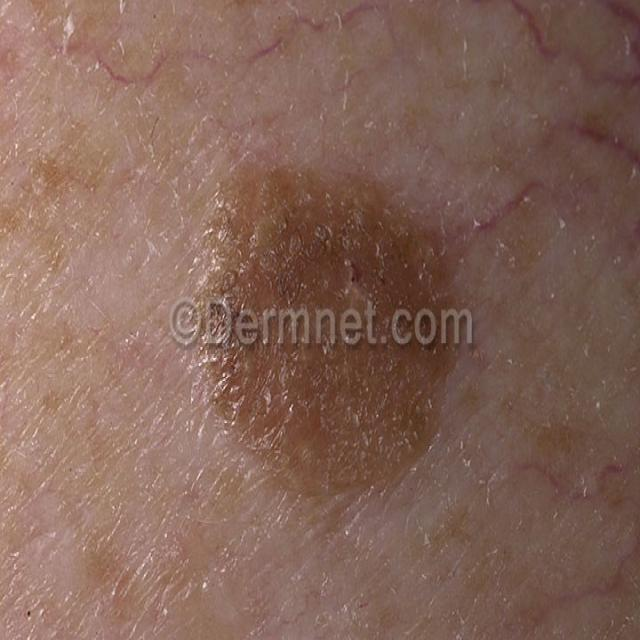Eczema: (136, 160, 464, 516)
